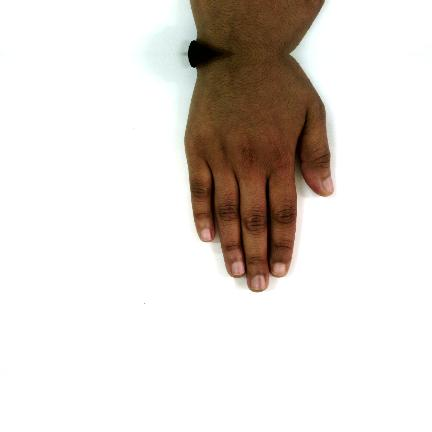Nail: (251, 275, 267, 291), (271, 263, 287, 278), (231, 261, 245, 276), (323, 177, 335, 193), (200, 228, 213, 241)
